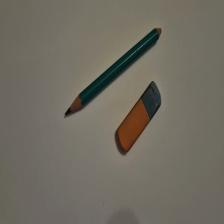eraser: (117, 81, 162, 153)
pencil: (66, 28, 163, 116)
